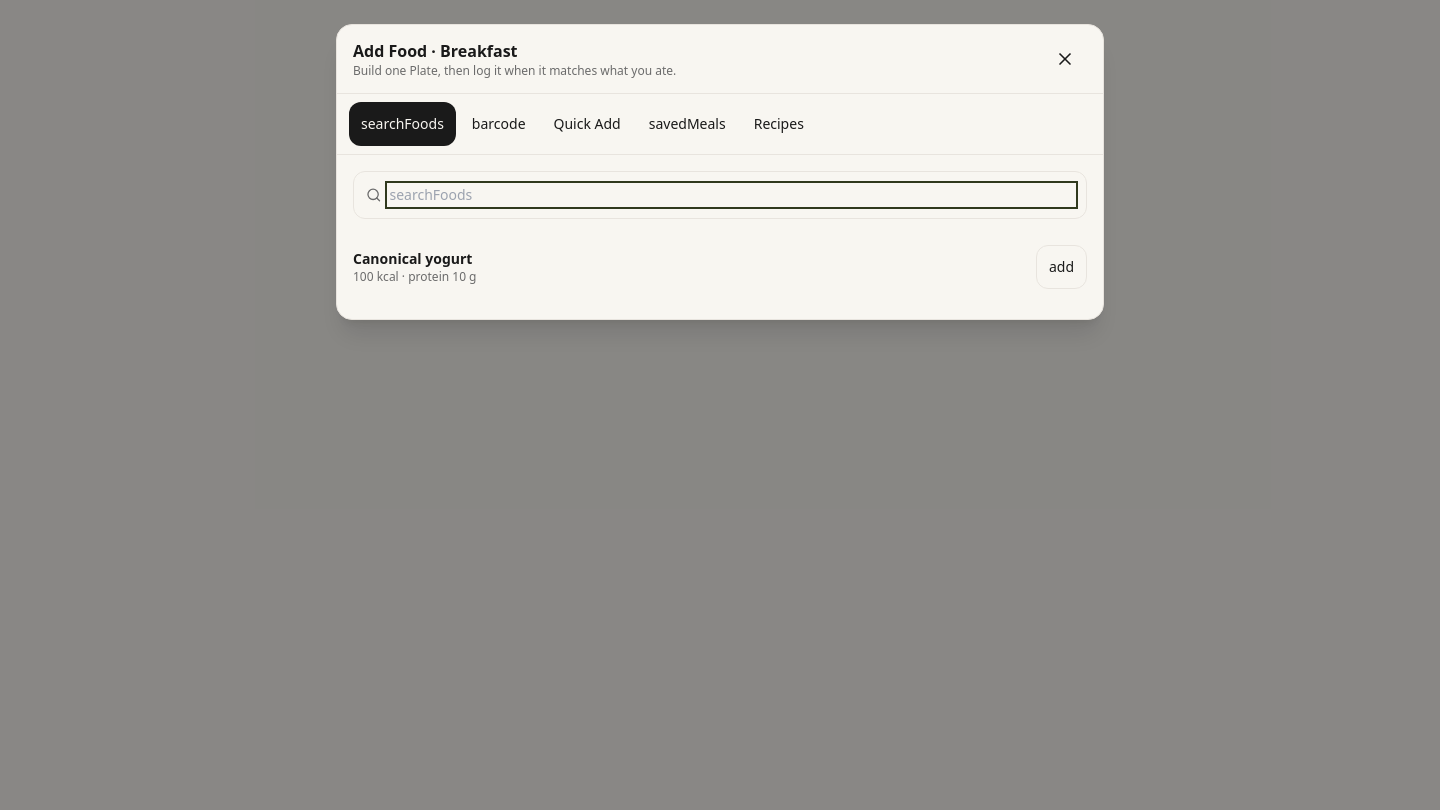
it: Diary LoggingSession authoritative Catalog serving selection › keeps a NULL-serving Catalog search result addable and resolves the sole authoritative serving before Plate entry
The width and height of the screenshot is (1440, 810).
Click the button "add". click: coordinates (1061, 267)
box: [1036, 245, 1087, 289]
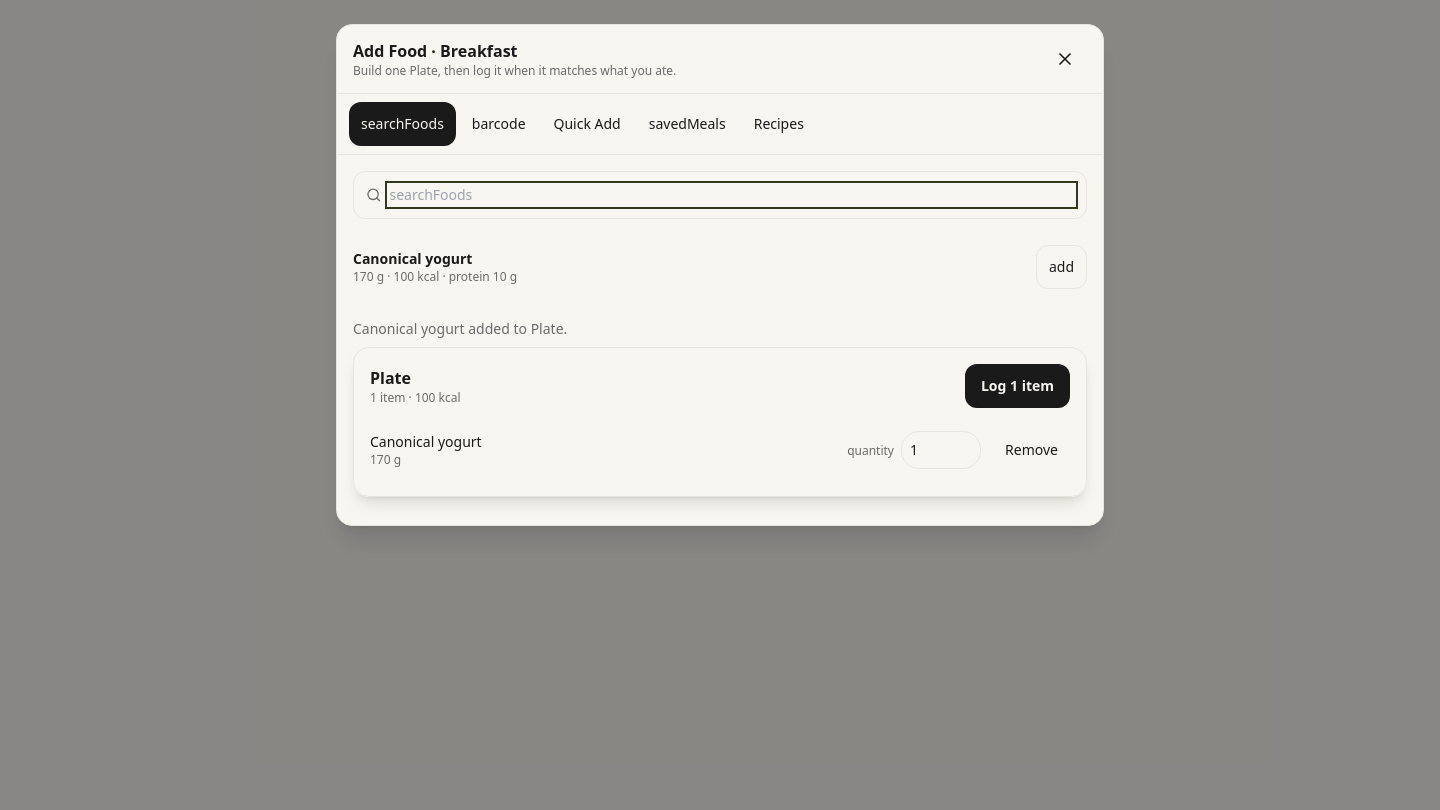
Expected: the text "170 g" is shown, [353, 268, 384, 285]
